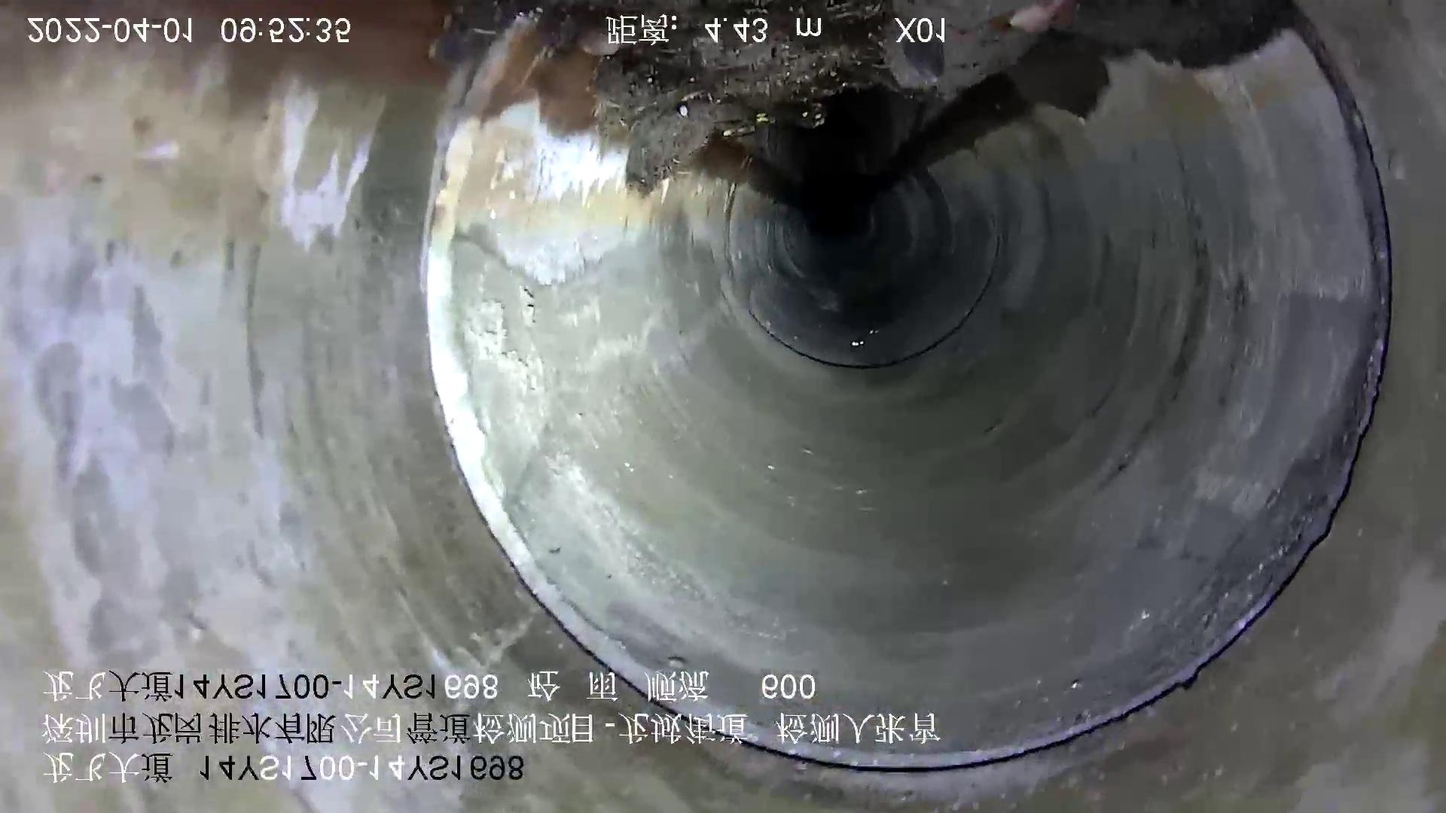CJ: (449, 1, 1072, 194)
CKTJ: (422, 14, 1392, 772)
